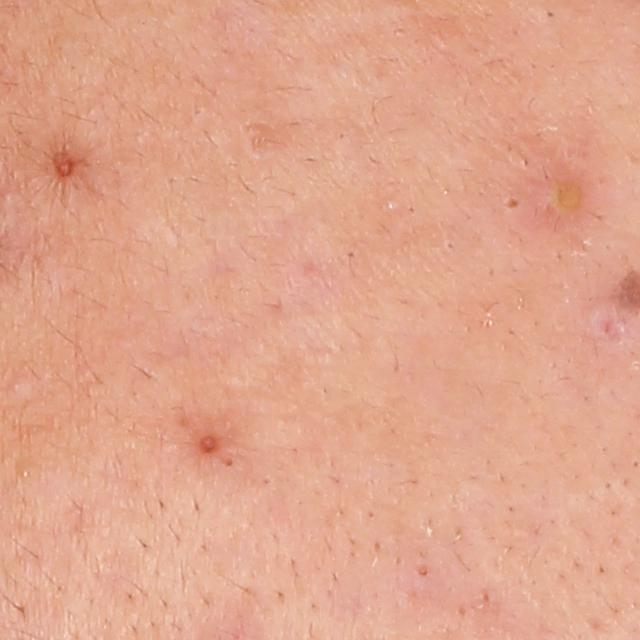atrophic_scar: (236, 115, 292, 162)
comedo: (496, 188, 521, 213), (199, 430, 222, 455), (344, 248, 361, 263), (18, 464, 34, 479), (542, 7, 558, 22)
